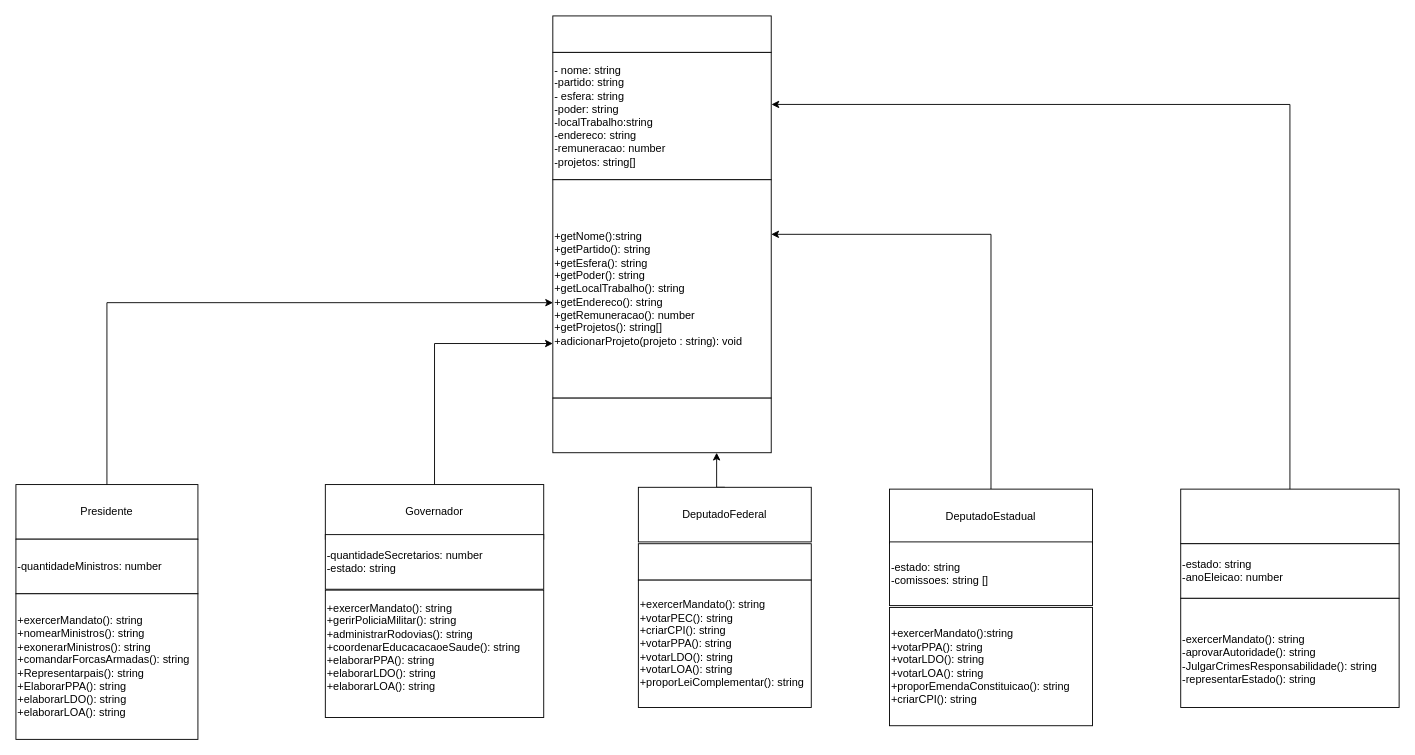
The diagram is 1415 pixels wide and 755 high, and some of its shapes have lost their labels. Each missing label, with the centre of its shape:
"+exercerMandato(): string <<abstract>>" goes at (661,425).
"-bancada: string" goes at (724,561).
"<<Abstract>> Politico" goes at (661,33).
"Senador" goes at (1289,516).
